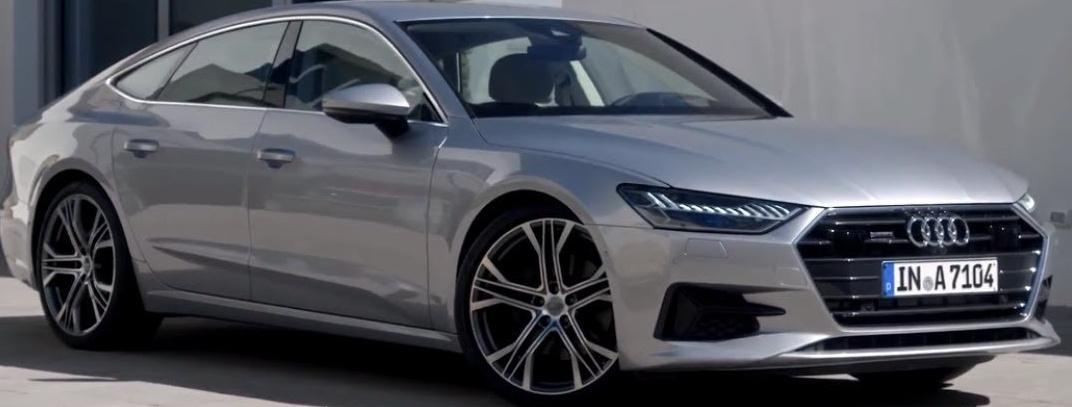Cars: (1, 3, 1056, 403)
